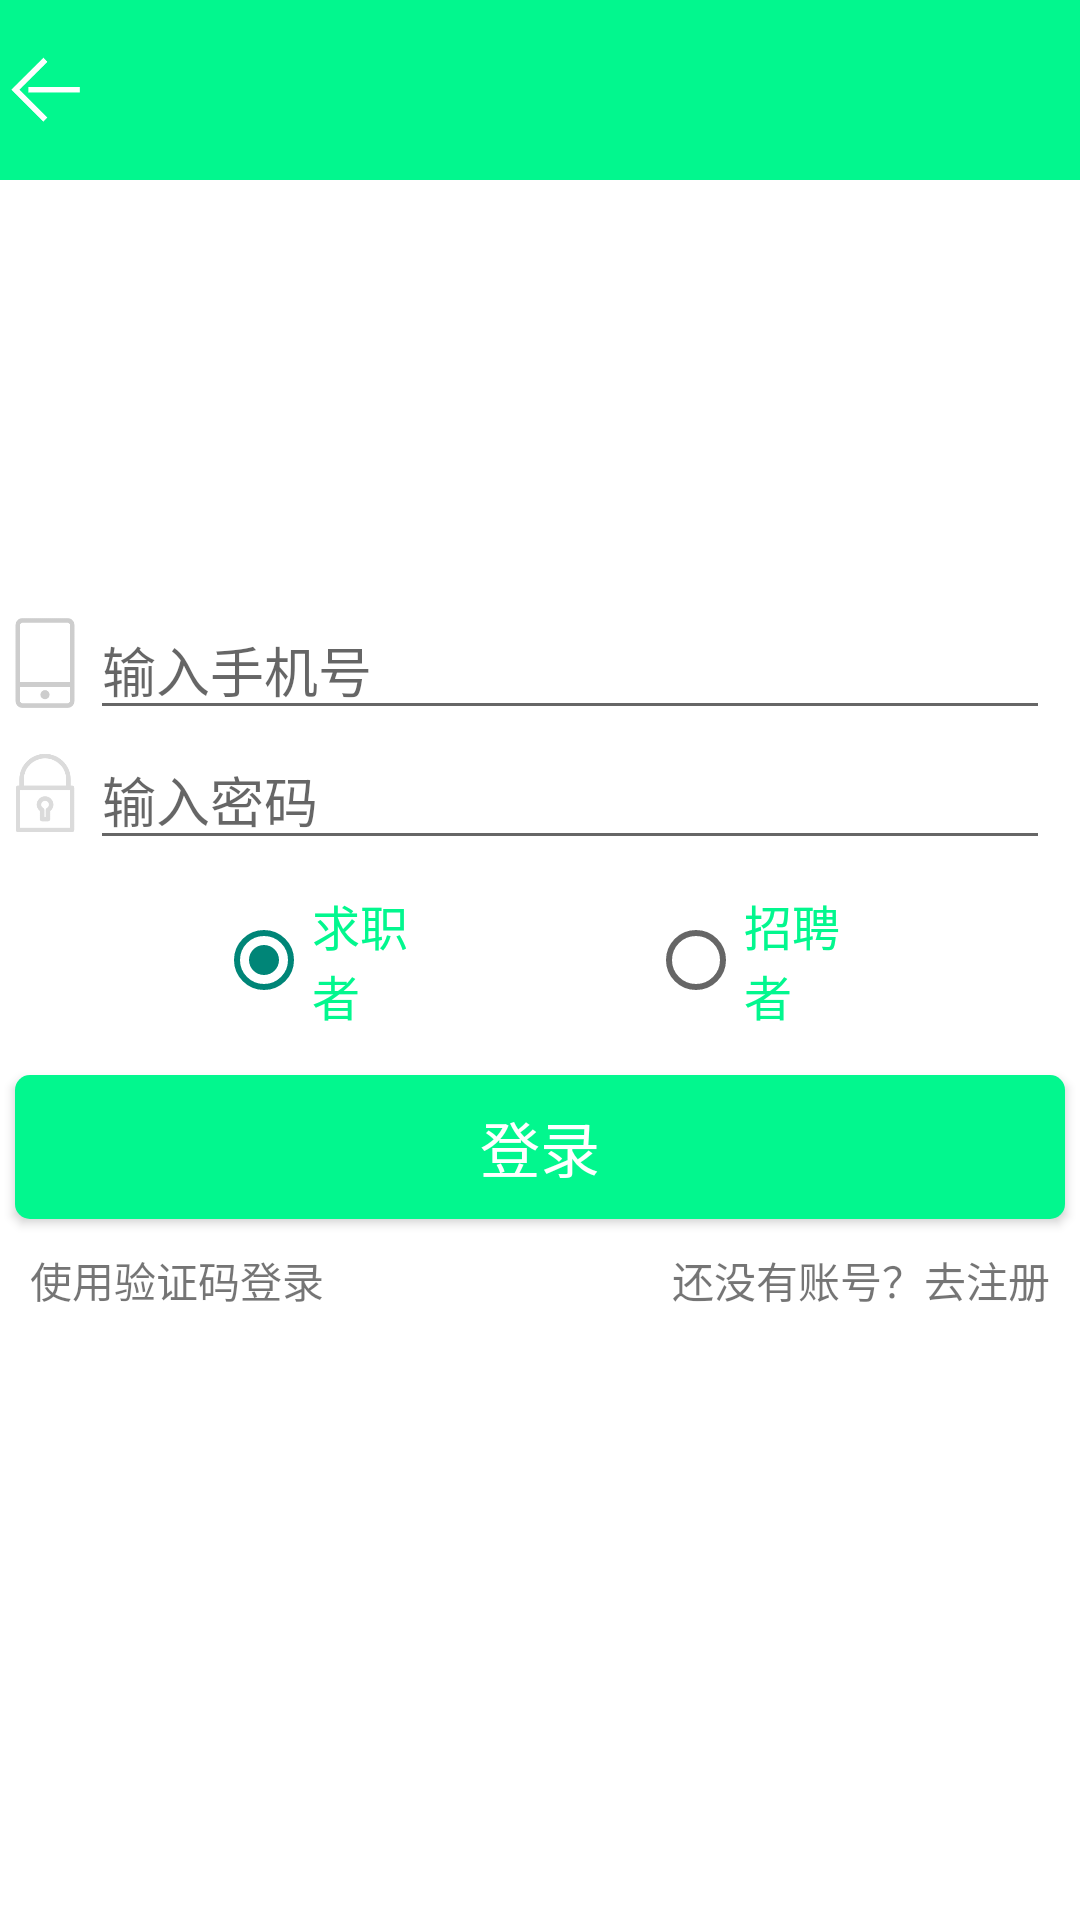

Where icons sit on this 1080x1920 app screen, as (x1, y1, x2, y2):
back: (11, 57, 80, 122)
password: (16, 754, 74, 832)
phone: (15, 618, 75, 708)
